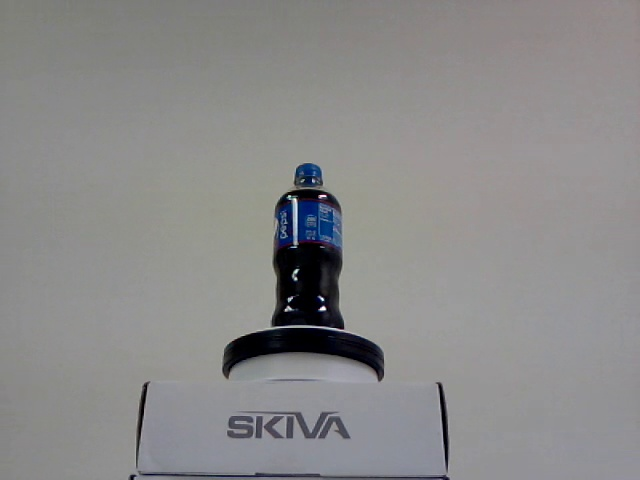botolplastik: (273, 164, 343, 328)
